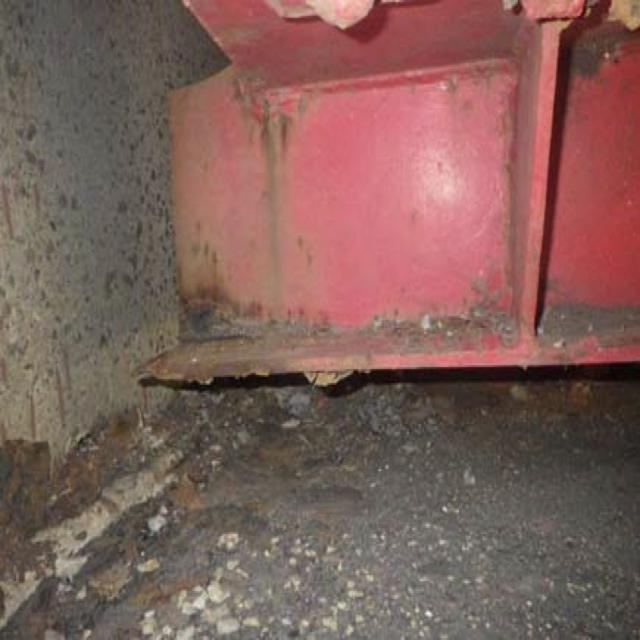corrosion: (154, 291, 540, 440)
